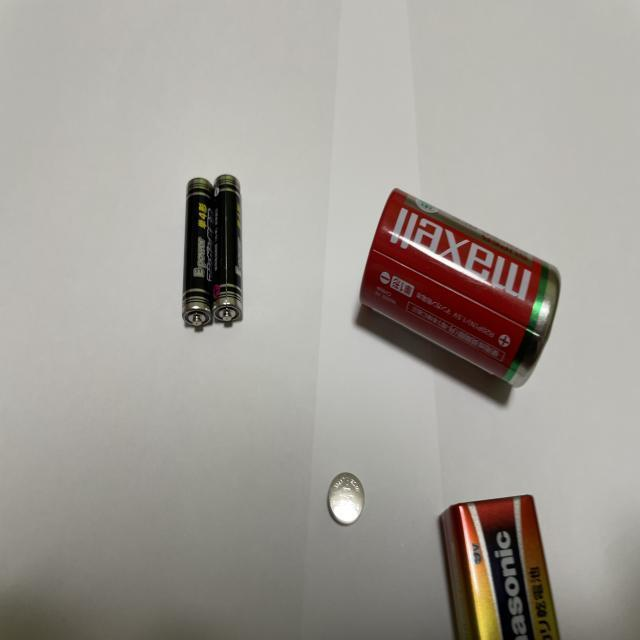9V: (438, 495, 568, 640)
